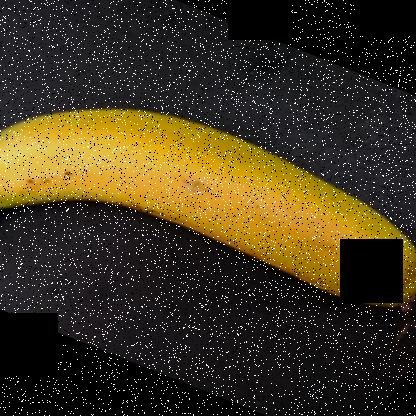freshripe: (1, 103, 410, 318)
